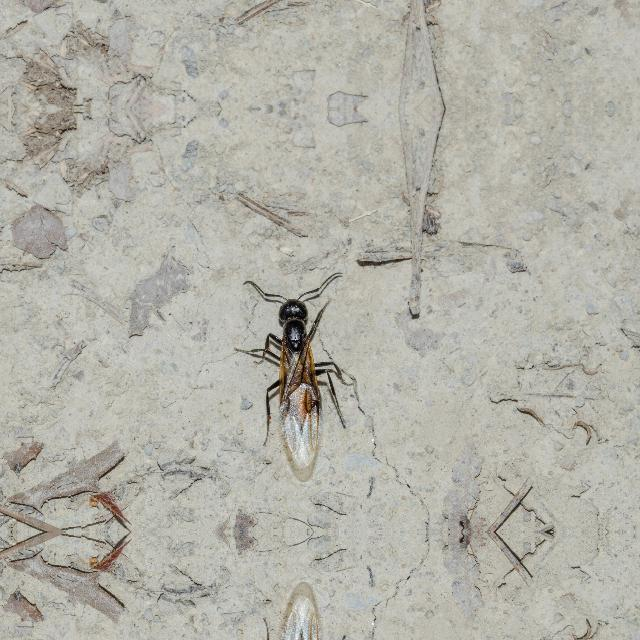Camponotus: (246, 265, 350, 469), (245, 594, 348, 640)
